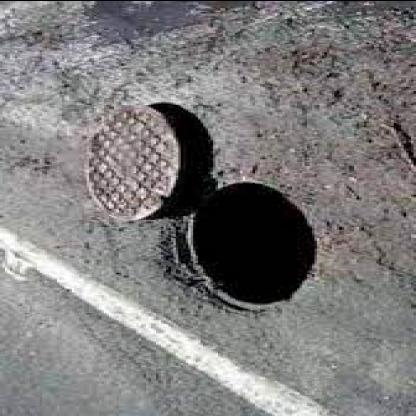manholes: (79, 102, 327, 318)
